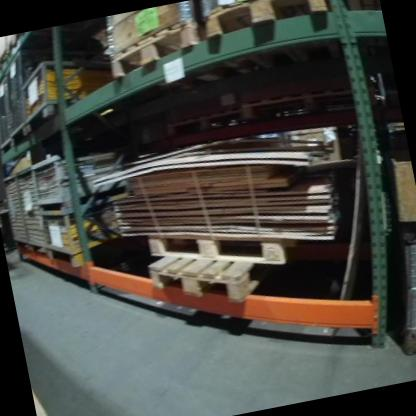pallet: (143, 200, 307, 288), (146, 236, 267, 317), (104, 15, 206, 80), (197, 0, 333, 43)
stillage: (14, 47, 133, 136), (41, 184, 150, 274), (0, 43, 73, 154), (29, 141, 138, 211), (12, 164, 55, 262), (0, 171, 30, 254), (0, 70, 25, 162)
